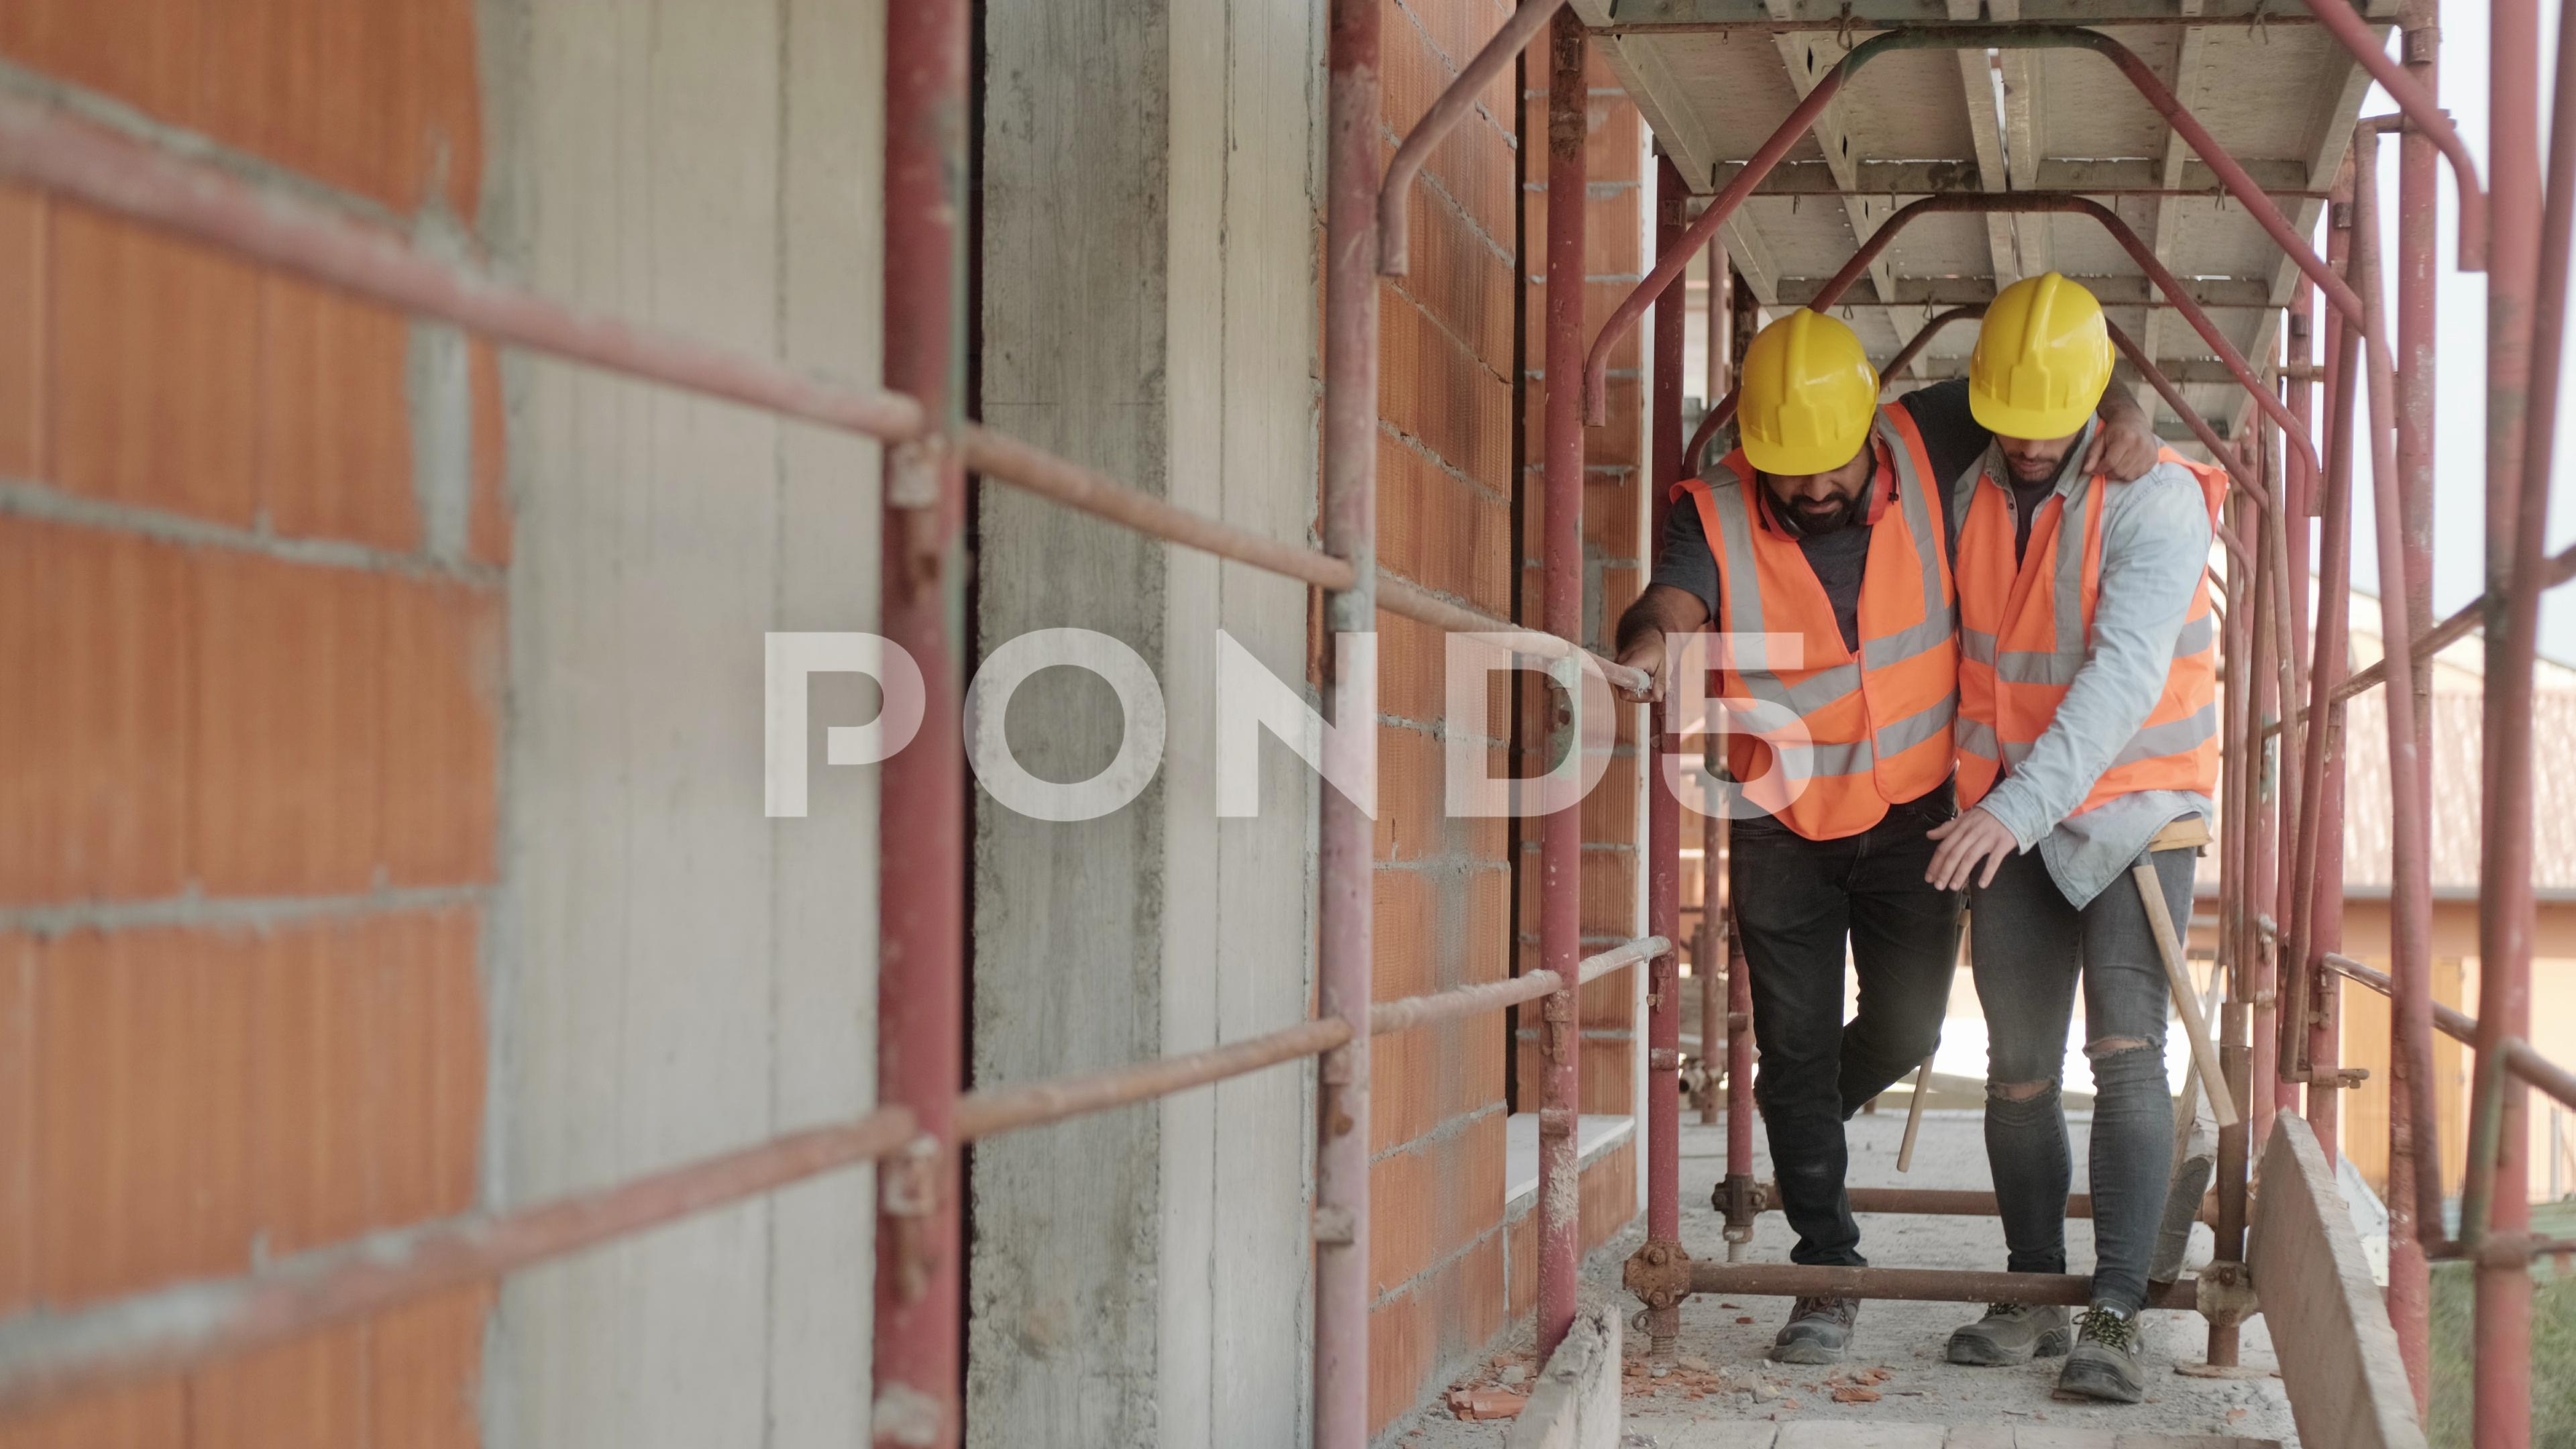hat: (1681, 280, 1962, 564), (1932, 216, 2167, 497)
vest: (1583, 389, 2024, 897), (1898, 423, 2279, 909)
